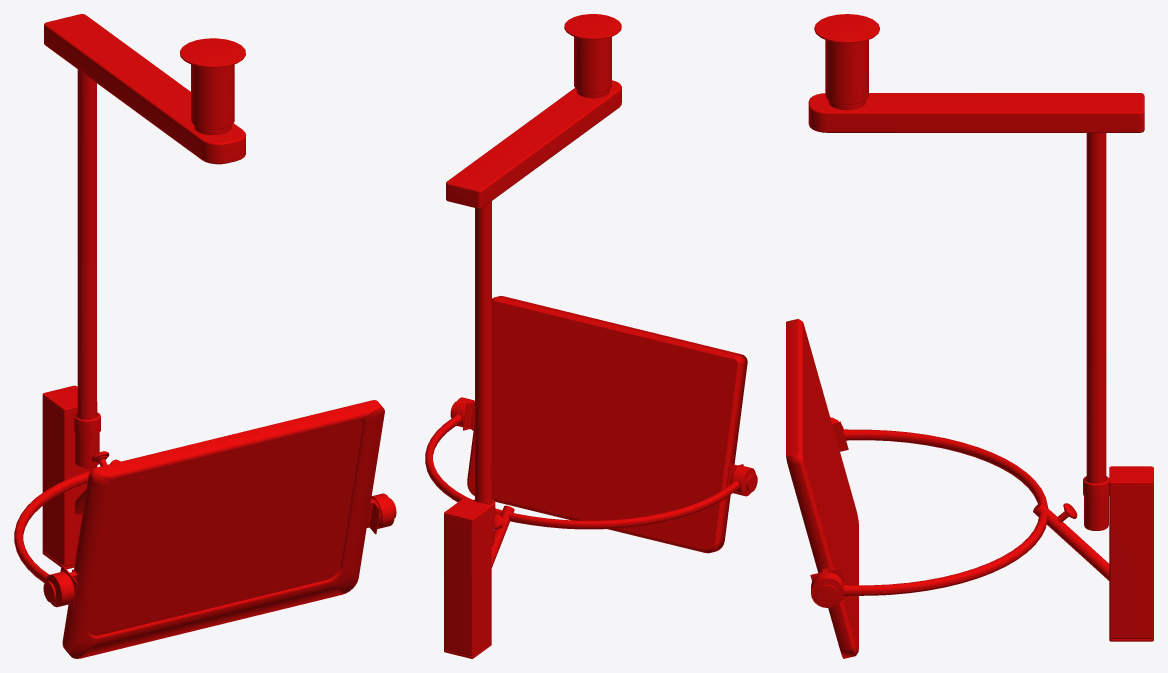
File: Equipment_32.fbx
3 renders of one model, left to right at view 1: azimuth 30°, elevation 25°; view 2: azimuth 150°, elevation 25°; view 3: azimuth 270°, elevation 25°, orthographic. The views are drawn at different scales.
Visible parts, largest first — view 1: polySurface15; view 2: polySurface15; view 3: polySurface15.
Boxes of the visible parts, <box> form: polySurface15: <box>14,14,396,658</box>; polySurface15: <box>425,14,757,658</box>; polySurface15: <box>786,14,1153,658</box>.
Size of the model in its own units: 105 by 178 by 98.16.
